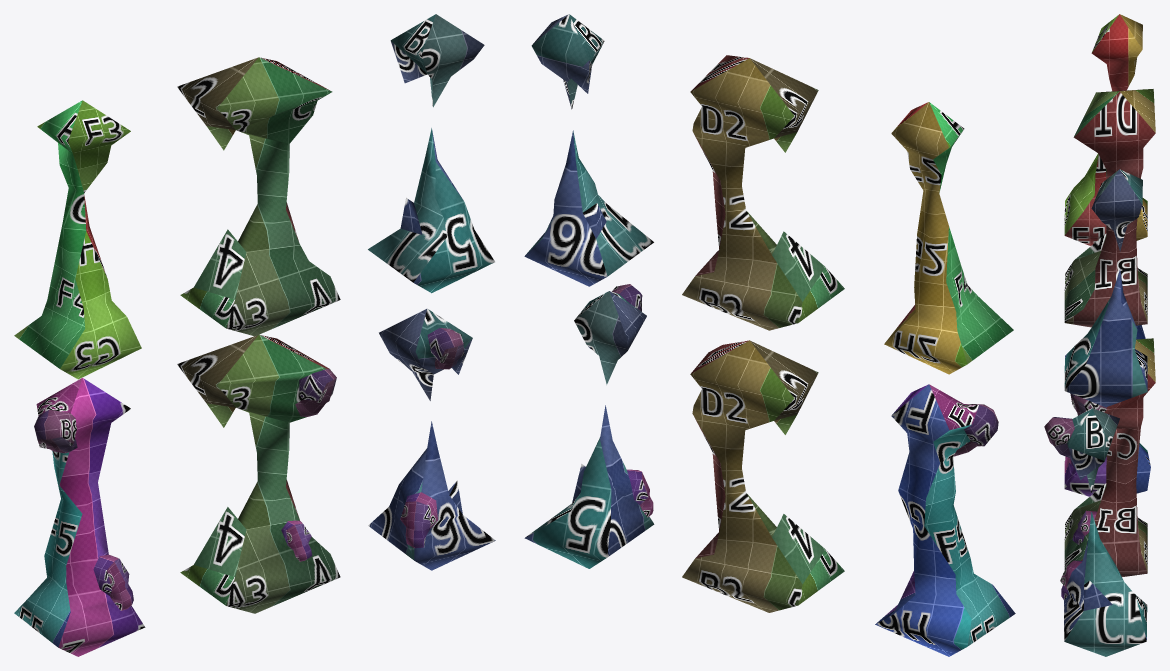
The model's file is cave_pillar.fbx.
3 renders of one model, left to right at view 1: azimuth 30°, elevation 25°; view 2: azimuth 150°, elevation 25°; view 3: azimuth 270°, elevation 25°, orthographic. The views are drawn at different scales.
Parts seen in each view (by area): view 1: cave_pillar5, cave_pillar2, cave_pillar6, cave_pillar1, cave_pillar3, cave_pillar4; view 2: cave_pillar2, cave_pillar5, cave_pillar6, cave_pillar1, cave_pillar4, cave_pillar3; view 3: cave_pillar2, cave_pillar4, cave_pillar3, cave_pillar5, cave_pillar1, cave_pillar6.
Boxes of the visible parts, <box> form: cave_pillar5: <box>177,334,340,613</box>; cave_pillar2: <box>177,57,340,336</box>; cave_pillar6: <box>14,378,145,656</box>; cave_pillar1: <box>14,100,141,379</box>; cave_pillar3: <box>368,14,494,293</box>; cave_pillar4: <box>368,308,495,570</box>; cave_pillar2: <box>682,55,844,330</box>; cave_pillar5: <box>682,340,844,612</box>; cave_pillar6: <box>875,384,1015,656</box>; cave_pillar1: <box>884,102,1013,374</box>; cave_pillar4: <box>524,284,654,568</box>; cave_pillar3: <box>524,14,653,286</box>; cave_pillar2: <box>1064,89,1155,327</box>; cave_pillar4: <box>1044,408,1147,656</box>; cave_pillar3: <box>1064,169,1147,407</box>; cave_pillar5: <box>1064,338,1155,576</box>; cave_pillar1: <box>1064,14,1147,245</box>; cave_pillar6: <box>1064,325,1150,496</box>.
Size of the model in its own units: 5.01 by 1.22 by 5.93.
1 material, 1 textured.
